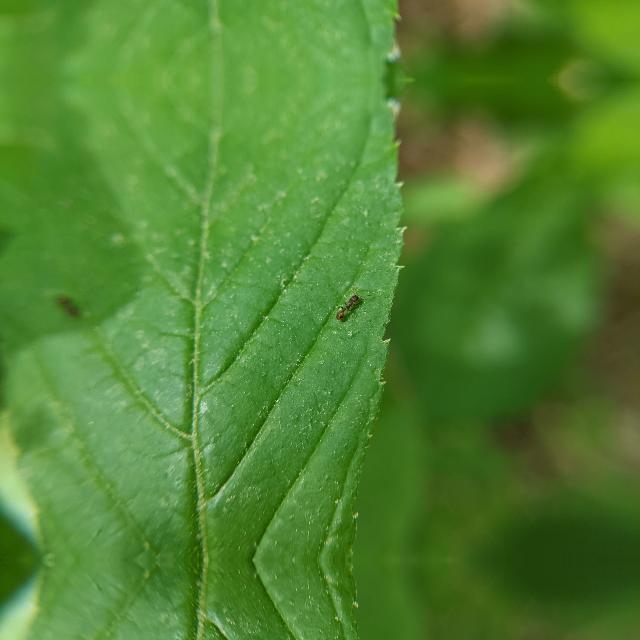Temnothorax: (328, 288, 368, 324), (55, 292, 83, 318)
